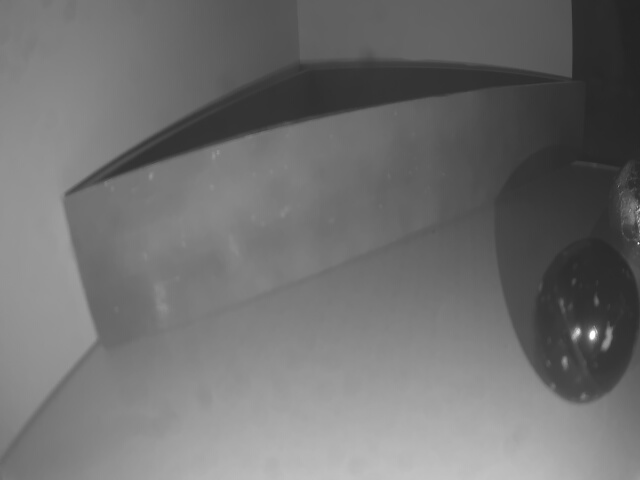Dead: (538, 236, 638, 408)
Green: (62, 81, 588, 347)
Live: (609, 157, 640, 256)
